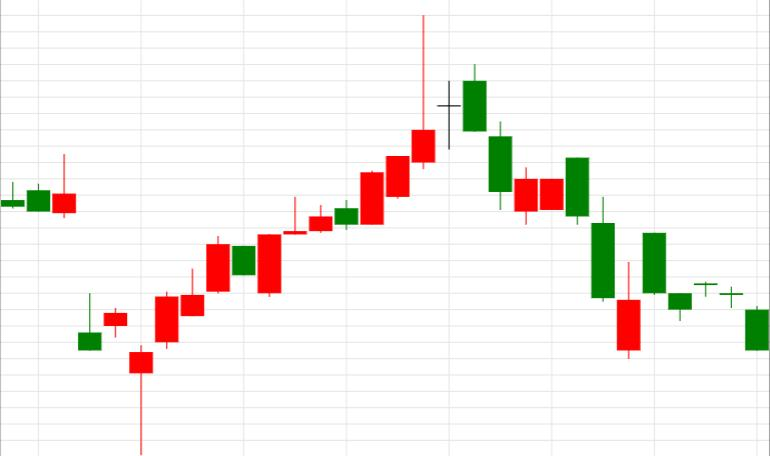shooting_star_fall: (258, 15, 435, 297)
